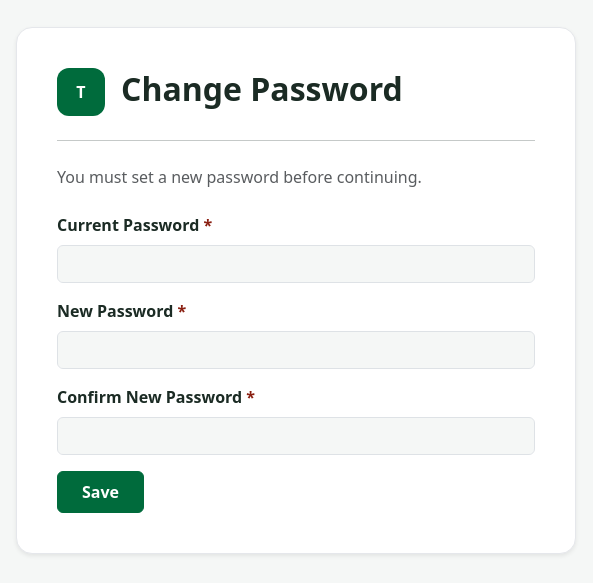
ChangePassword › blocks submission client-side when the new/confirm passwords mismatch
Type "OldPass123!" into the password field labelled "Current Password *". click: {"x": 296, "y": 264}
box: [57,244,535,282]
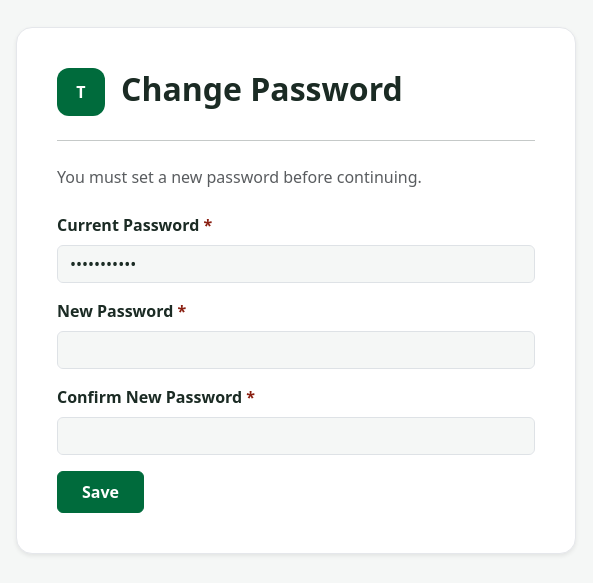
Type "BrandNewPass1!" into the password field labelled "New Password *". click: {"x": 296, "y": 350}
box: [57,330,535,368]
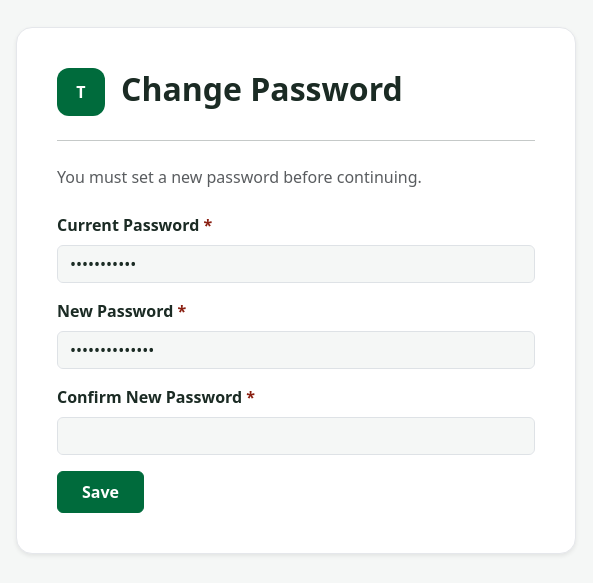
Type "DoesNotMatch1!" into the password field labelled "Confirm New Password *". click: {"x": 296, "y": 436}
box: [57,416,535,454]
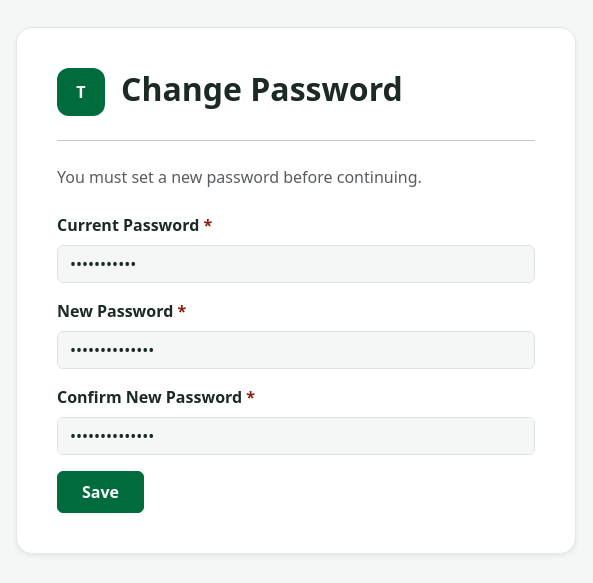
Click the button "Save". click: {"x": 100, "y": 492}
box: [57,470,144,512]
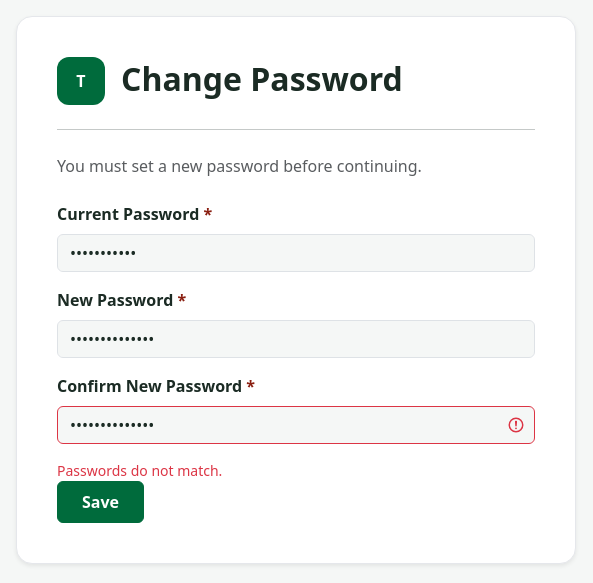
Check: the text "Passwords do not match." is shown, box [57,461,222,480]
